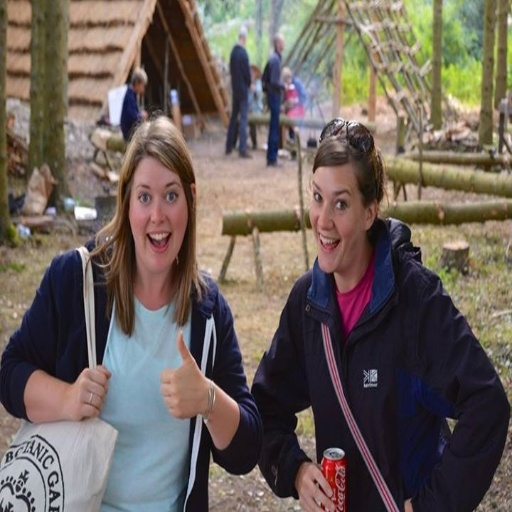hand: (160, 328, 208, 422), (54, 370, 100, 422), (292, 459, 335, 509), (401, 497, 413, 509), (283, 82, 290, 91)
